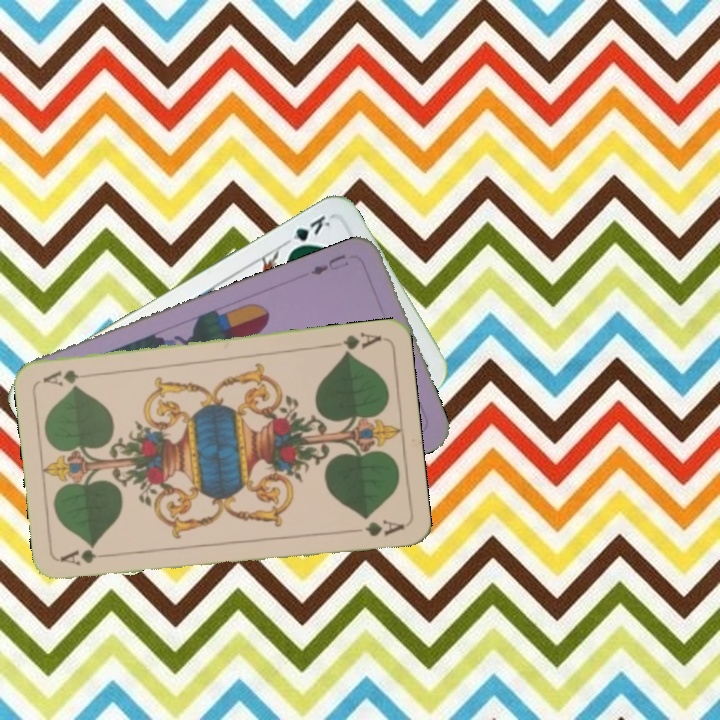EU: (306, 250, 351, 278)
GA: (326, 328, 384, 358), (57, 546, 116, 568)
GK: (279, 211, 333, 255)
